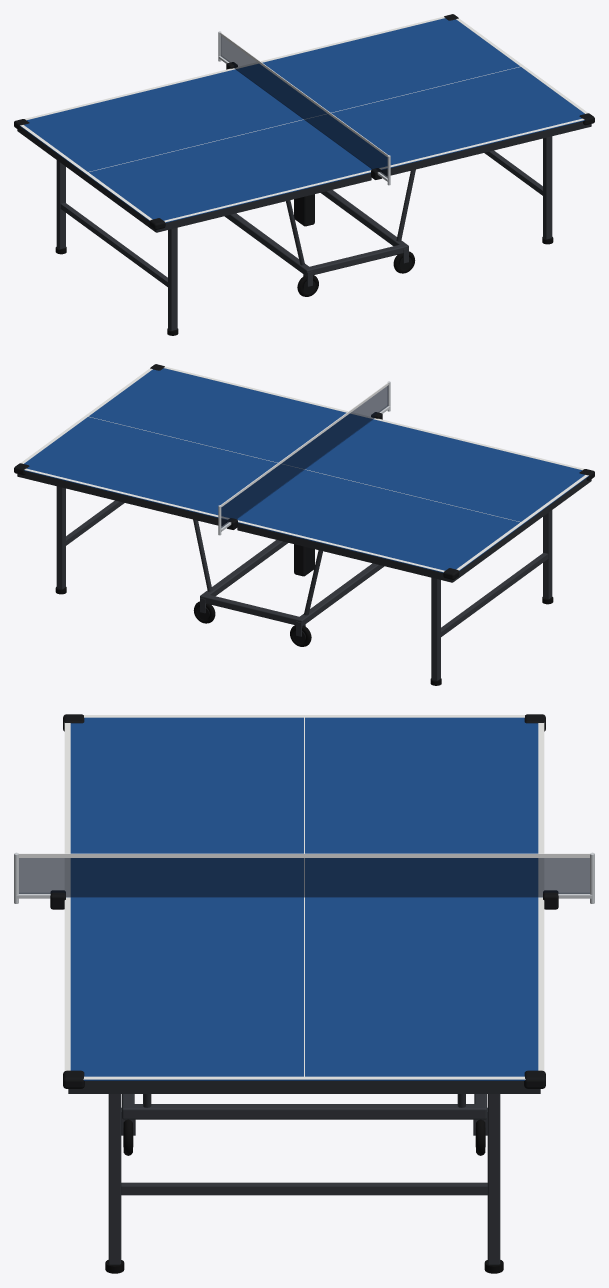
File: platte-outdoor-blau.glb
The picture shows the model from 3 angles, top to bottom: view 1: azimuth 30°, elevation 25°; view 2: azimuth 150°, elevation 25°; view 3: azimuth 270°, elevation 25°; orthographic projection. The views are drawn at different scales.
Visible parts, largest first — view 1: Platte (×2), Hälfte A, Netz, Beine (×2), Fahrwerk, Hälfte B, Tischtennisplatte; view 2: Platte (×2), Hälfte A, Netz, Beine (×2), Fahrwerk, Hälfte B, Tischtennisplatte; view 3: Platte (×2), Netz, Hälfte B, Beine, Fahrwerk, Hälfte A.
Part boxes in pixels (x1,y1,x2,y2): Platte (×2): (20,18,584,222); Hälfte A: (14,68,371,232); Netz: (218,31,390,185); Beine (×2): (55,136,553,335); Fahrwerk: (224,190,415,296); Hälfte B: (235,14,594,175); Tischtennisplatte: (286,169,415,265); Platte (×2): (24,368,588,572); Hälfte A: (237,418,594,582); Netz: (218,381,390,535); Beine (×2): (55,486,553,685); Fahrwerk: (193,540,384,646); Hälfte B: (14,364,373,525); Tischtennisplatte: (193,519,322,615); Platte (×2): (70,717,538,1080); Netz: (14,852,594,909); Hälfte B: (63,897,545,1093); Beine: (105,1094,503,1273); Fahrwerk: (121,1094,487,1155); Hälfte A: (63,714,545,896).
Size of the model in its own units: 2.75 by 0.9125 by 1.85.
